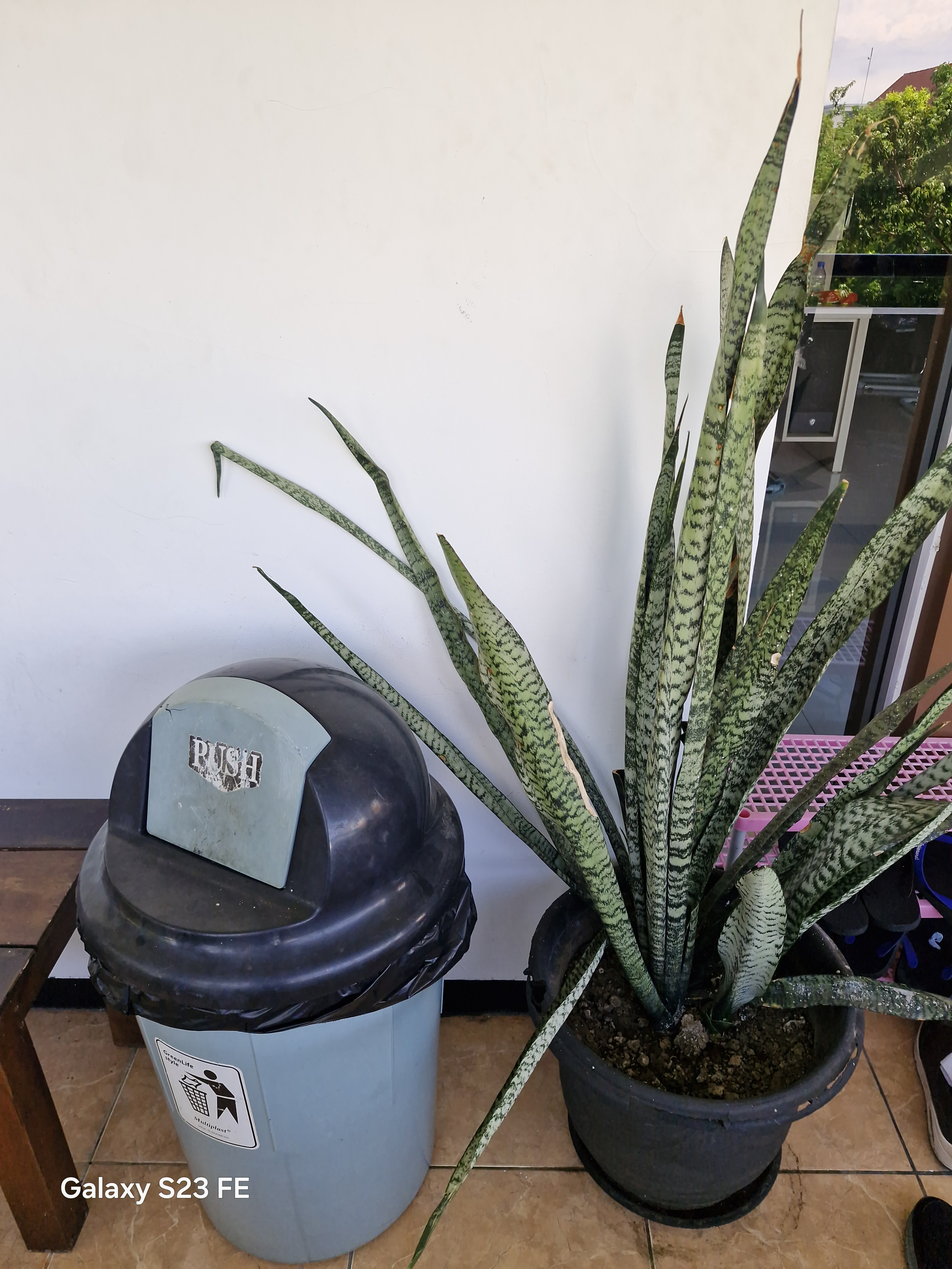floor-other-merged: (0, 888, 951, 1268)
potted plant: (213, 53, 951, 1263)
trash-bin: (77, 660, 475, 1262)
wall-other-merged: (0, 0, 837, 964), (746, 262, 811, 617)
window-other: (781, 0, 951, 656), (766, 505, 951, 821), (866, 821, 951, 989), (886, 703, 951, 792), (919, 777, 951, 801)
